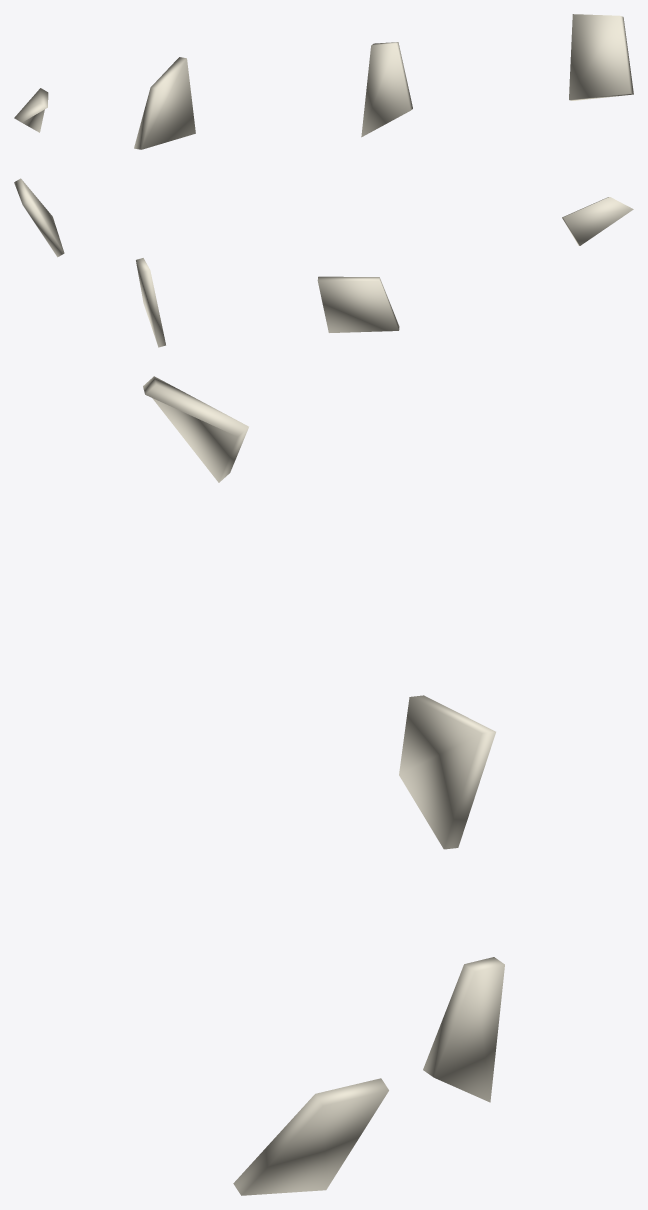
The picture shows the model from 3 angles, top to bottom: view 1: azimuth 30°, elevation 25°; view 2: azimuth 150°, elevation 25°; view 3: azimuth 270°, elevation 25°; orthographic projection. The views are drawn at different scales.
Visible parts, largest first — view 1: ZA_2f7a6c18ebb1c939; view 2: ZA_2f7a6c18ebb1c939; view 3: ZA_2f7a6c18ebb1c939.
Part boxes in pixels (bbox=[...]): ZA_2f7a6c18ebb1c939: bbox=[14, 14, 633, 149]; ZA_2f7a6c18ebb1c939: bbox=[14, 178, 633, 347]; ZA_2f7a6c18ebb1c939: bbox=[143, 376, 504, 1195].
Bounding box in the file's own units: 0.0411 × 0.0122 × 0.0112.
